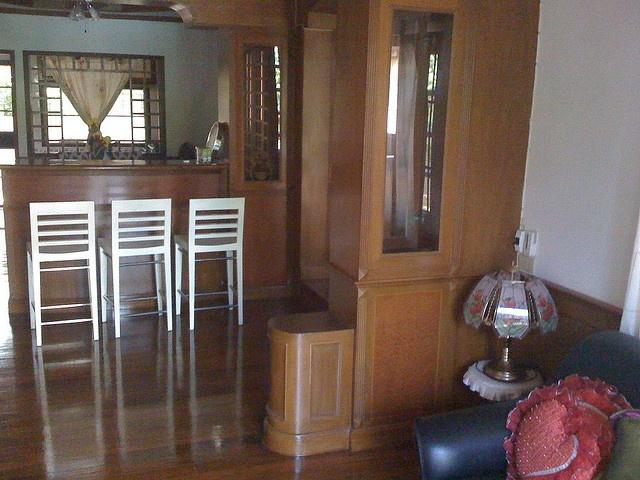Kursi: (24, 199, 101, 345), (97, 197, 172, 338), (172, 196, 244, 329)
